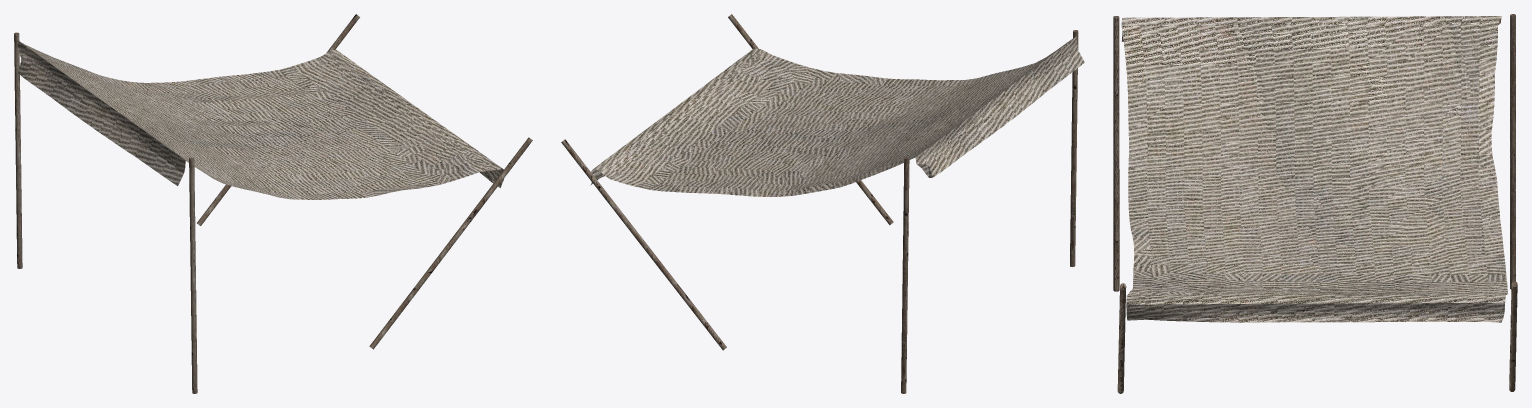
3 views of the same model, side by side, from view 1: azimuth 30°, elevation 25°; view 2: azimuth 150°, elevation 25°; view 3: azimuth 270°, elevation 25° (orthographic). The views are drawn at different scales.
Visible parts, largest first — view 1: qingmo_obj_398 [10486088], qingmo_obj_393 [10486064]; view 2: qingmo_obj_398 [10486088], qingmo_obj_393 [10486064]; view 3: qingmo_obj_398 [10486088], qingmo_obj_393 [10486064].
Part boxes in pixels (x1,y1,x2,y2): qingmo_obj_398 [10486088]: [17, 41, 503, 199]; qingmo_obj_393 [10486064]: [14, 14, 532, 393]; qingmo_obj_398 [10486088]: [590, 36, 1084, 196]; qingmo_obj_393 [10486064]: [561, 14, 1078, 393]; qingmo_obj_398 [10486088]: [1121, 16, 1507, 322]; qingmo_obj_393 [10486064]: [1113, 14, 1517, 393].
Size of the model in its own units: 51.96 by 43.57 by 32.52.
2 materials, 2 textured.
